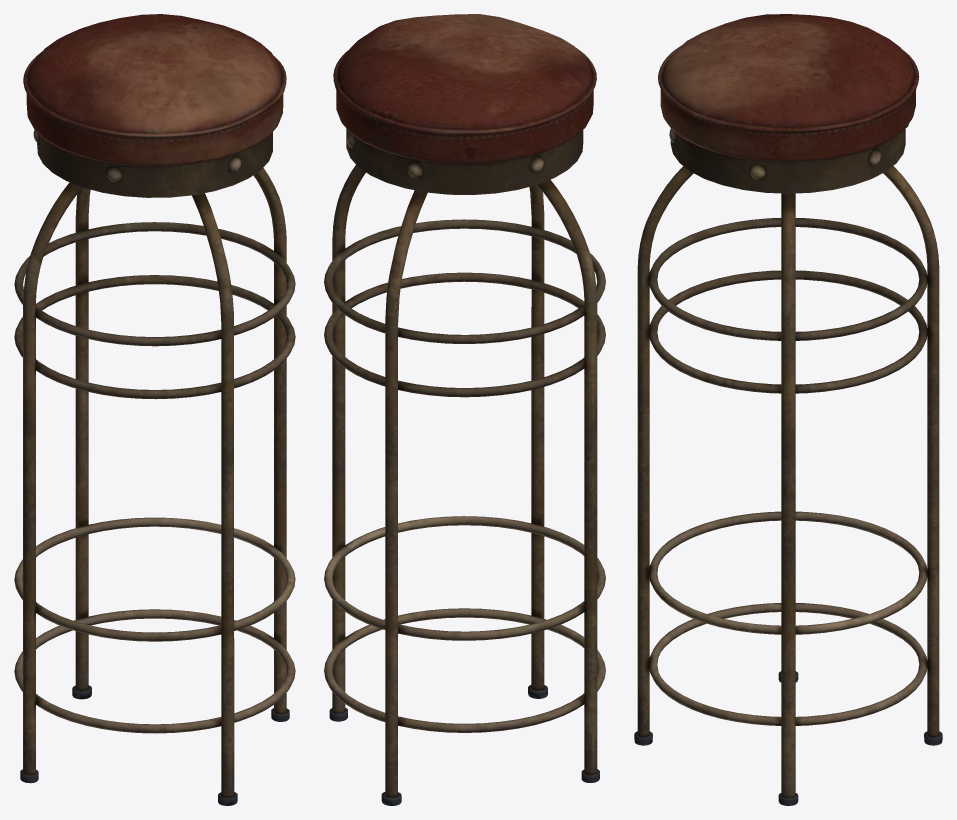
The model's file is metal_stool_01.glb.
3 views of the same model, side by side, from view 1: azimuth 30°, elevation 25°; view 2: azimuth 150°, elevation 25°; view 3: azimuth 270°, elevation 25° (orthographic).
Parts seen in each view (by area): view 1: metal_stool_01; view 2: metal_stool_01; view 3: metal_stool_01.
Part boxes in pixels (x1,y1,x2,y2): metal_stool_01: [14, 14, 295, 805]; metal_stool_01: [324, 14, 605, 805]; metal_stool_01: [634, 14, 942, 805].
Bounding box in the file's own units: 0.352 × 0.8828 × 0.3546.
1 material, 1 textured.
